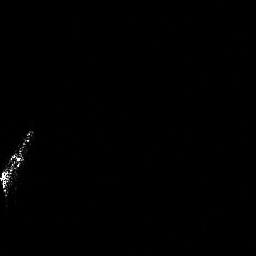ship: (1, 124, 38, 205)
